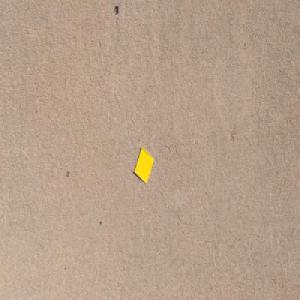PlasticPart: (133, 146, 154, 185)
